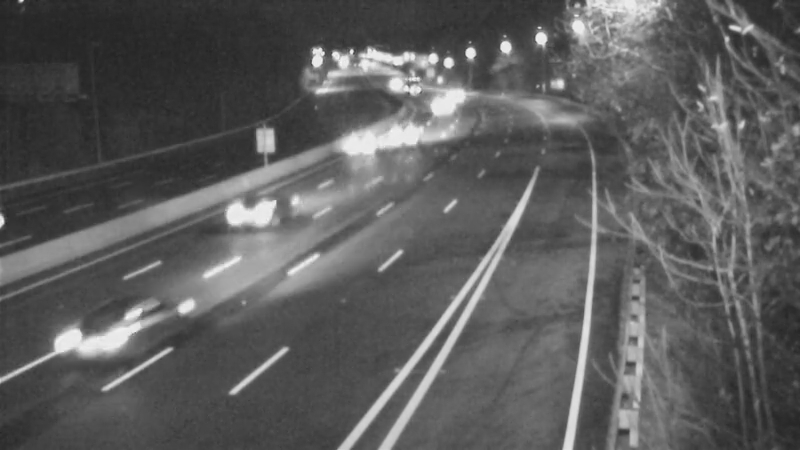vehicle: (60, 277, 170, 387), (218, 161, 298, 241), (366, 58, 416, 108), (385, 59, 435, 109), (429, 69, 479, 119), (412, 80, 462, 130), (384, 110, 434, 160), (333, 116, 383, 166)
